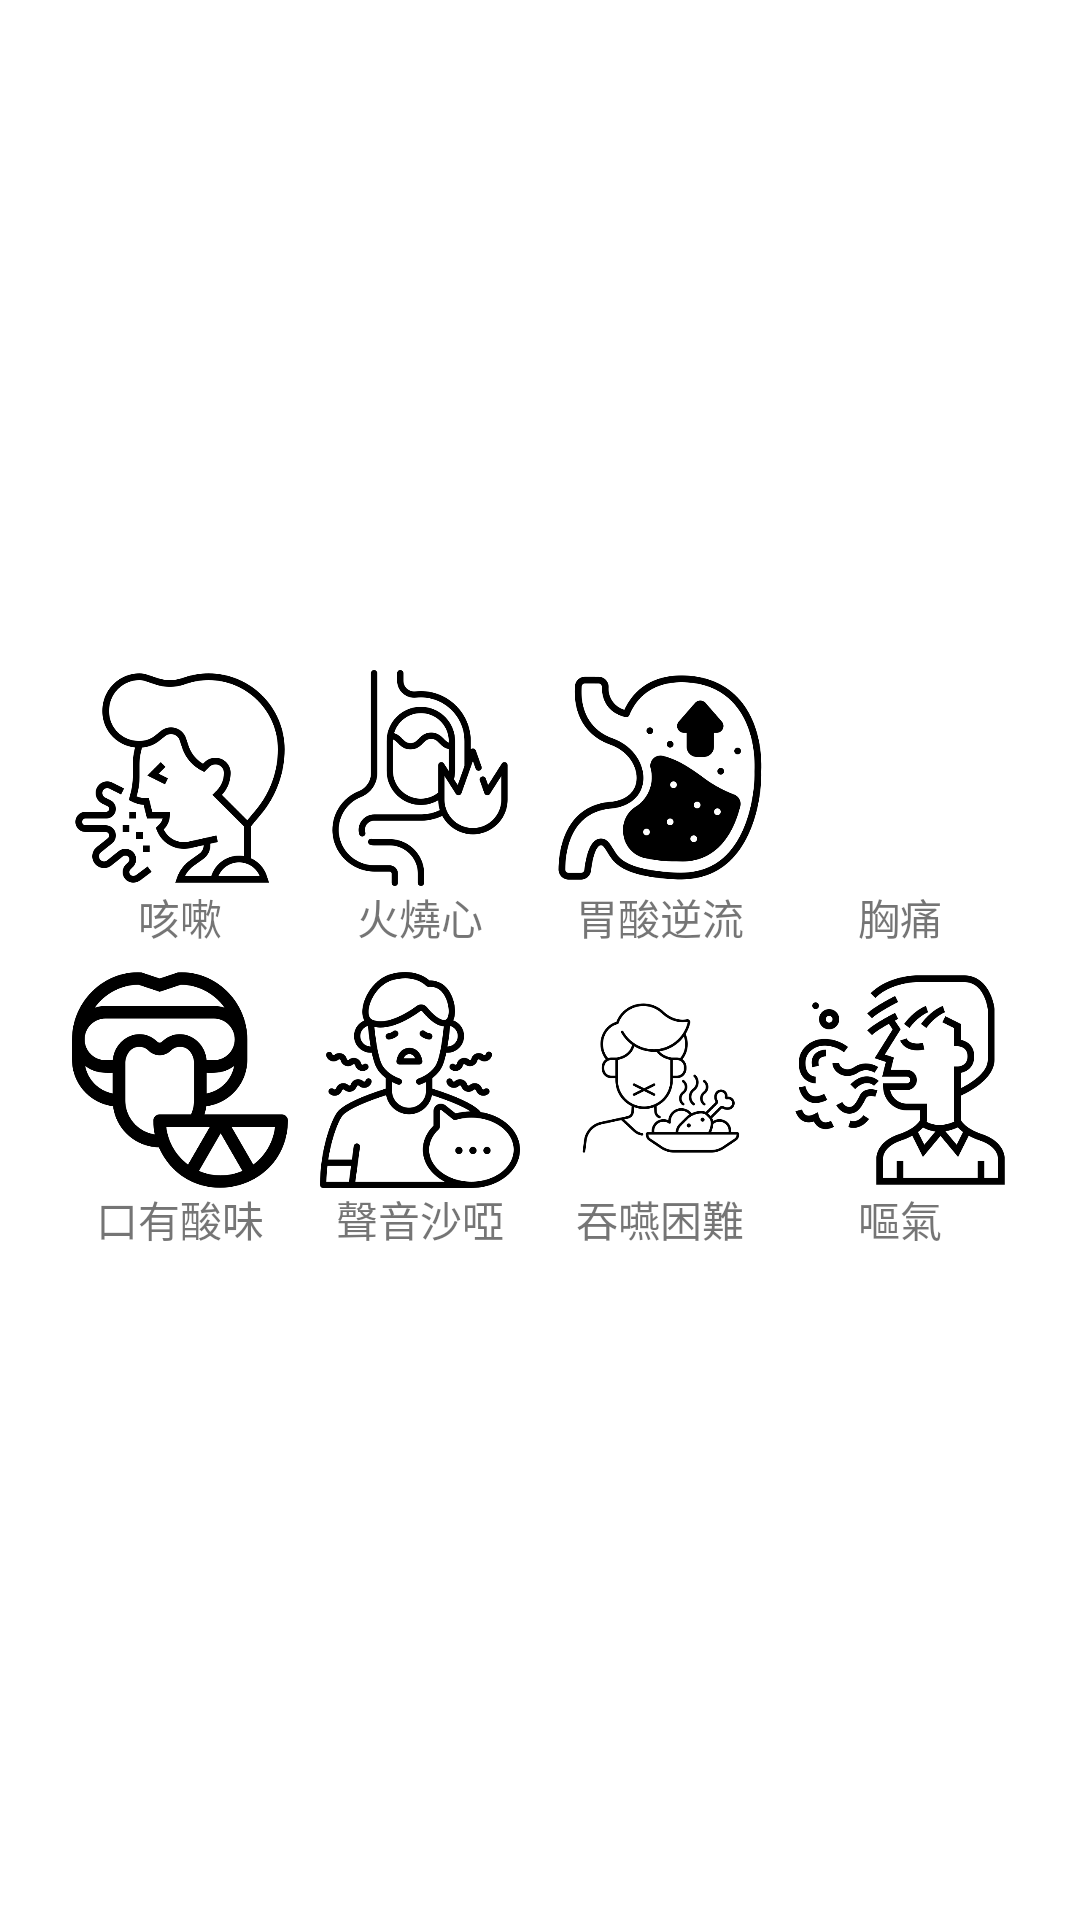

Where icons sit on this 1080px×1920px app screen, as (x1, y1, x2, y2):
appetite lose: (582, 1003, 739, 1153)
stomach gas: (795, 975, 1005, 1185)
